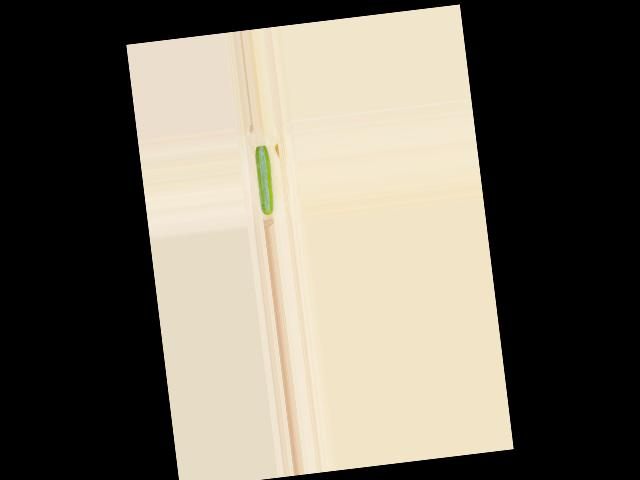cucumber: (254, 145, 275, 215)
